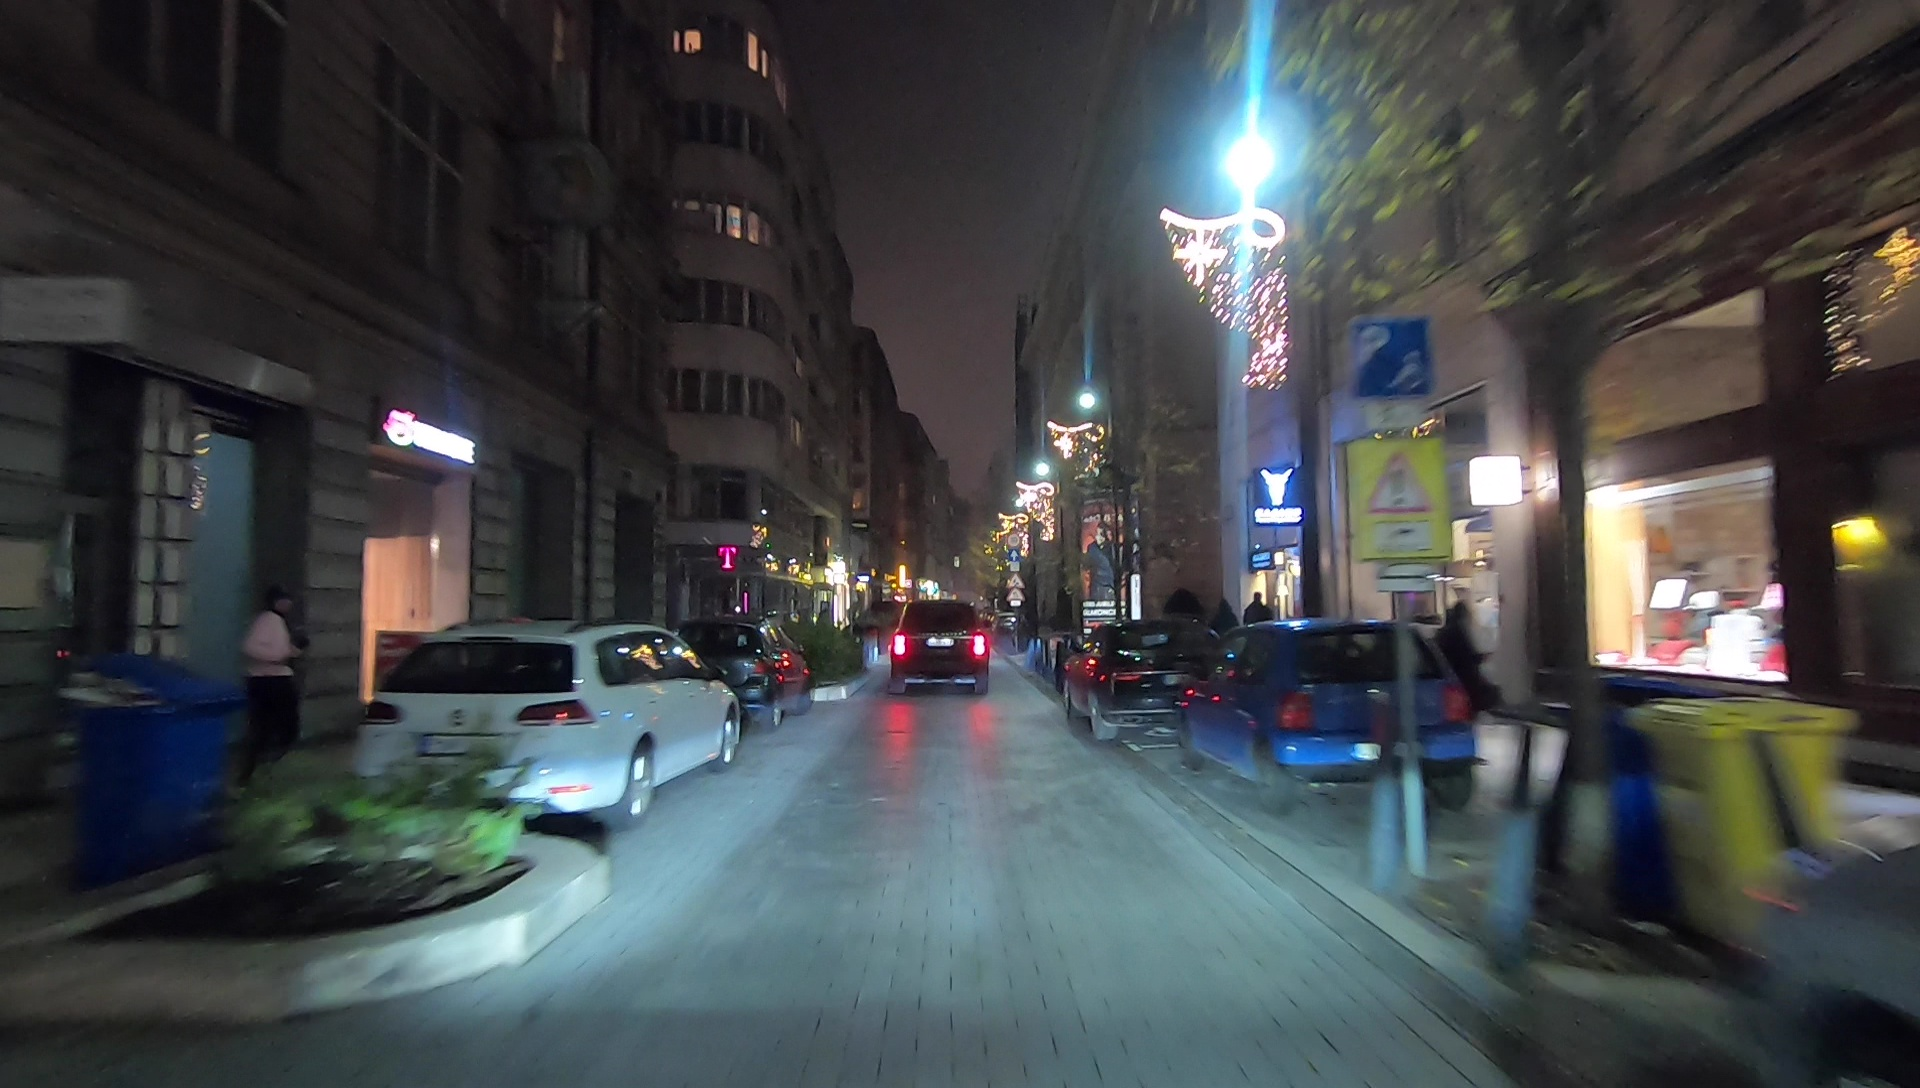person: (234, 584, 310, 793), (1438, 599, 1499, 774)
